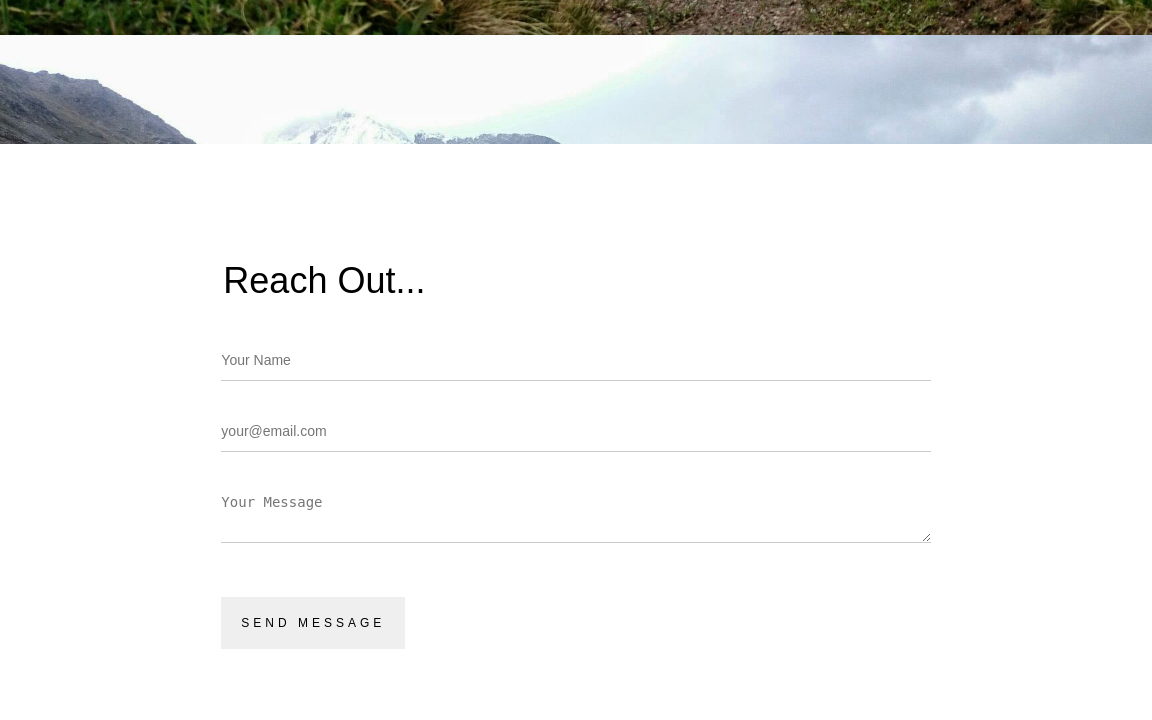
Test: should give error message if name input too short
(page scrolled)
Type "jl" into the field with placeholder "Your Name". click: (576, 360)
box: [221,340,931,381]
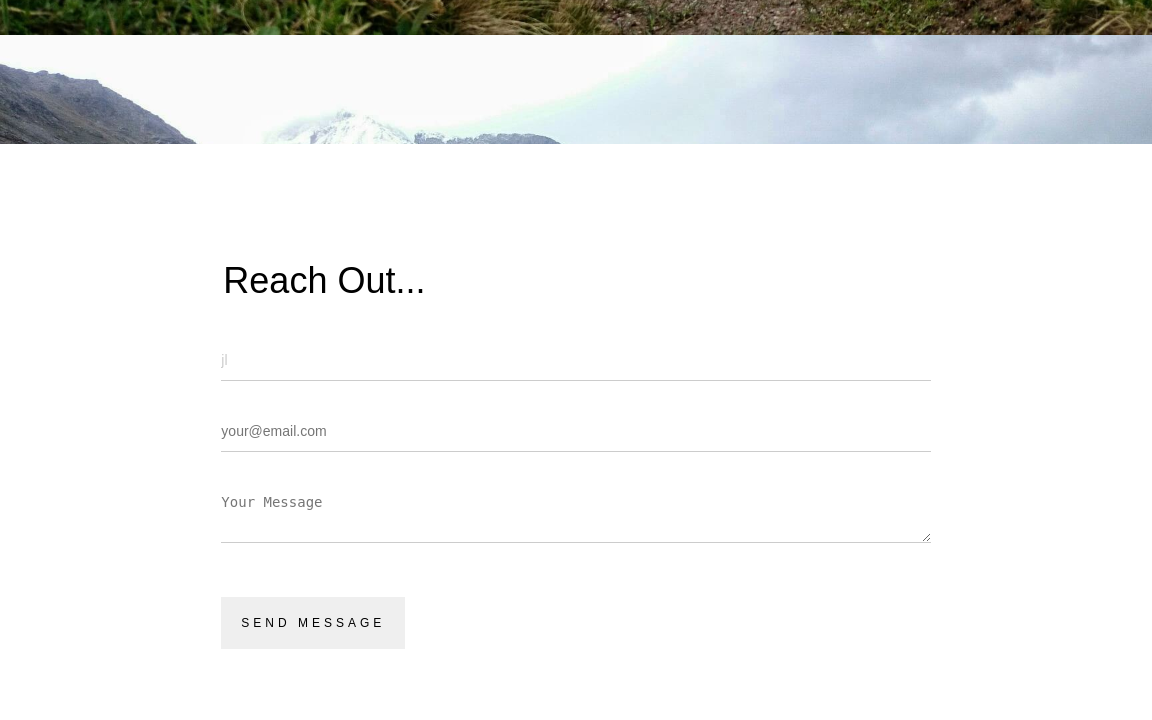
Click the button "Send Message". click: (313, 623)
box: [221,597,405,649]
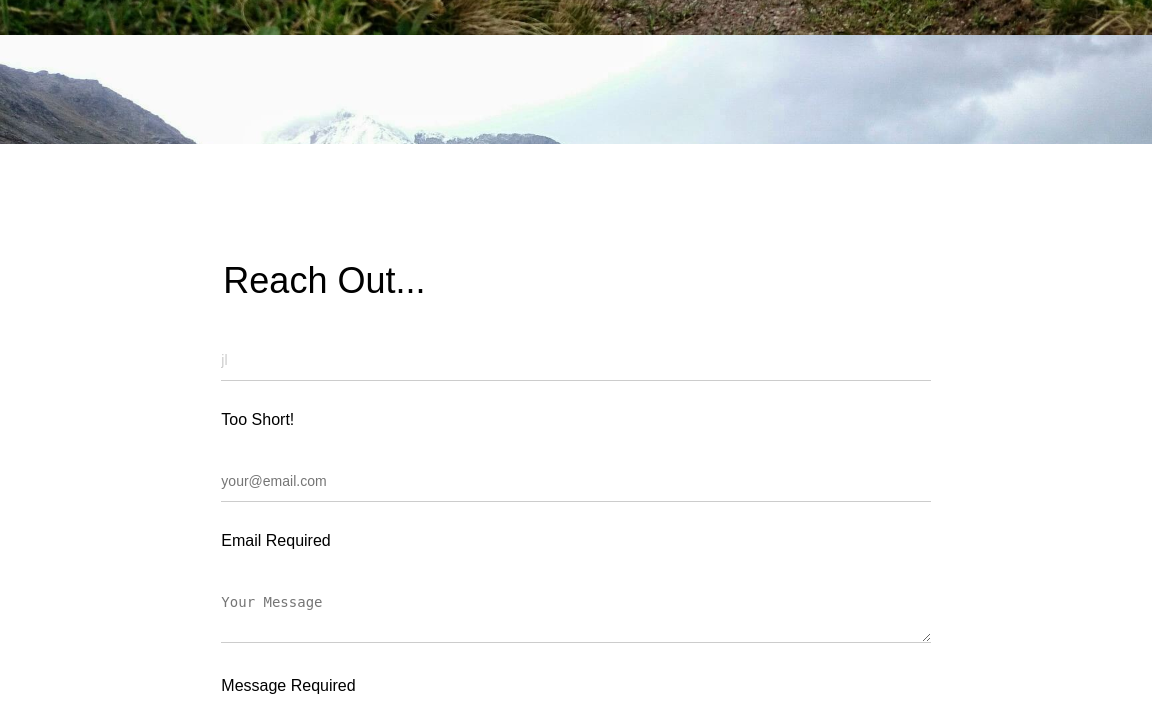
expect the text "Too Short!" is shown: met, box [221,411,294,428]
